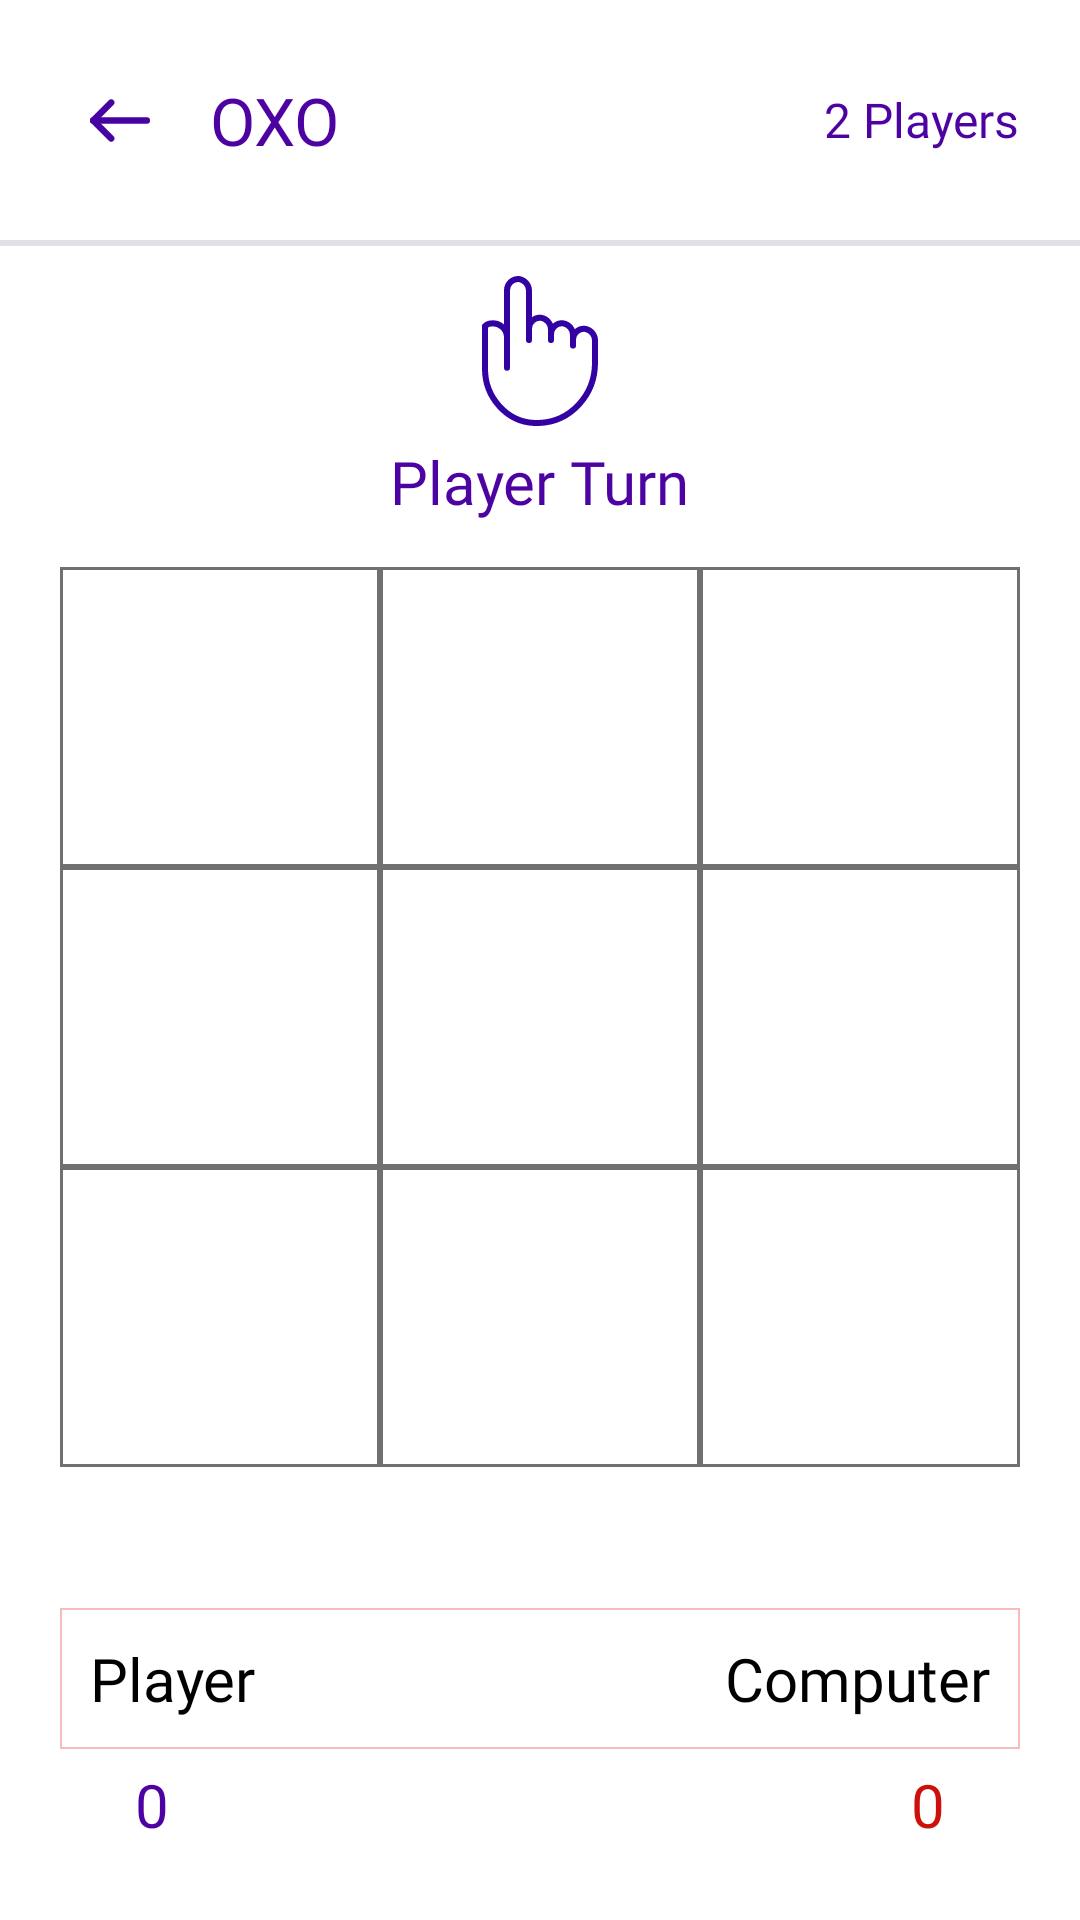

Locate icon controls on the screen. Image size 1080 × 1920, boxes as BBox(x1, y1, x2, y2).
back arrow: BBox(90, 99, 150, 142)
hand: BBox(482, 276, 598, 426)
